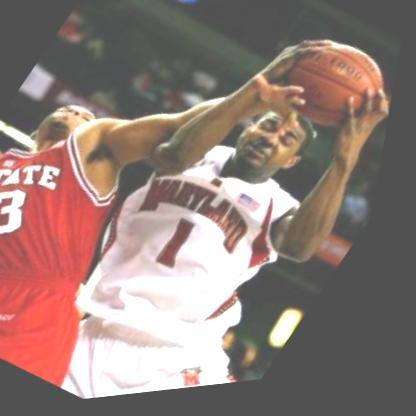basketball: (262, 20, 408, 158)
